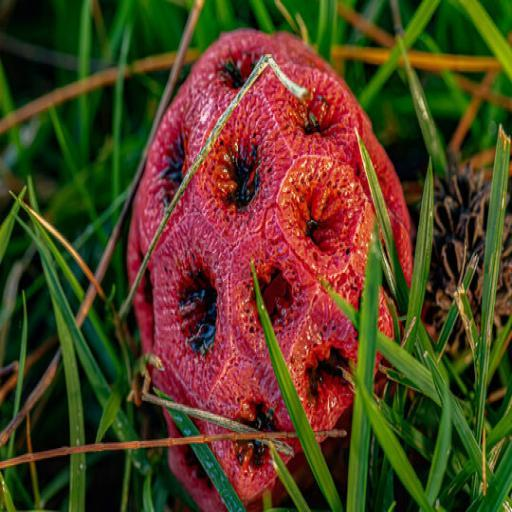mushroom: (127, 28, 412, 512)
